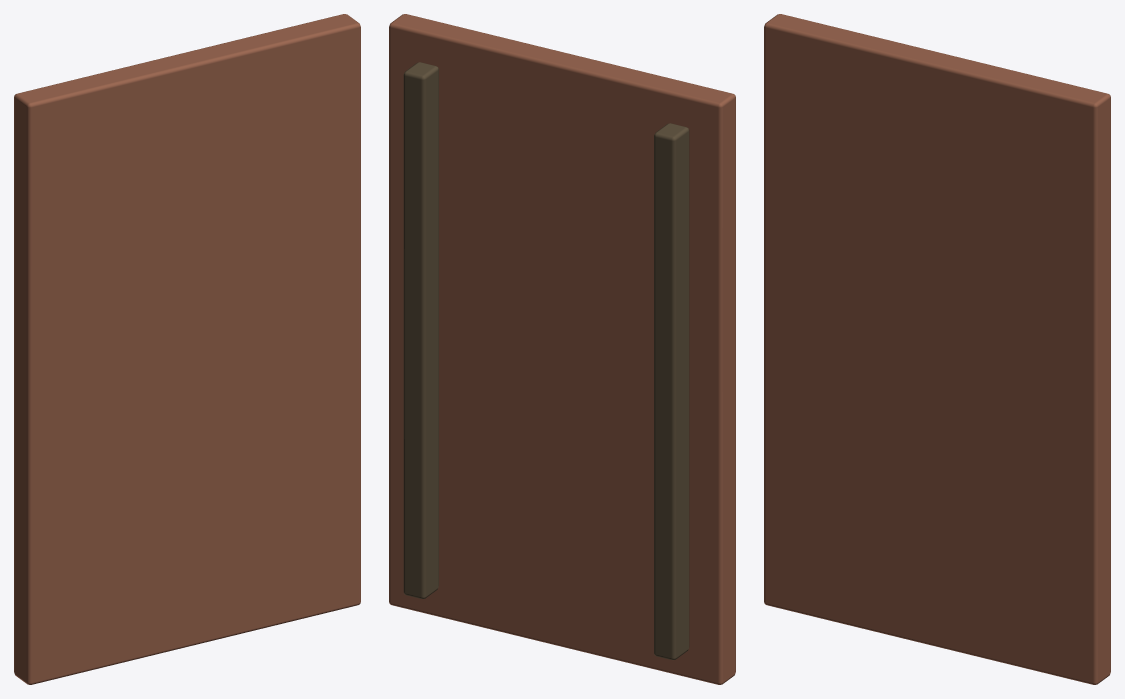
File: undercity-sewers-and-thieves-den-fake-wall-panel-9c7e2f9a__27254.glb
3 views of the same model, side by side, from view 1: azimuth 30°, elevation 25°; view 2: azimuth 150°, elevation 25°; view 3: azimuth 330°, elevation 25° (orthographic).
Visible parts, largest first — view 1: fake-wall-panel; view 2: fake-wall-panel; view 3: fake-wall-panel.
Boxes of the visible parts, x1,y1,x2,y2 form: fake-wall-panel: (14,14,360,684); fake-wall-panel: (389,14,735,684); fake-wall-panel: (764,14,1110,684).
Size of the model in its own units: 1.2 by 2 by 0.2.
